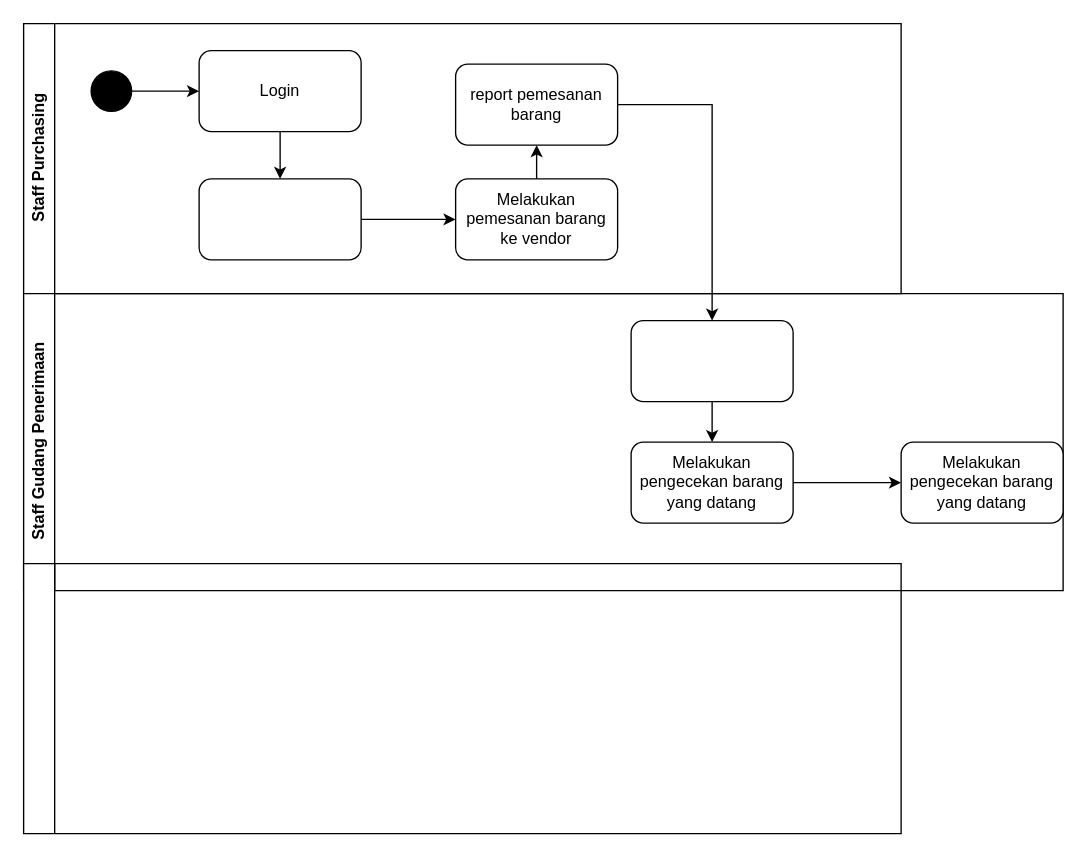
The diagram is 1087 pixels wide and 857 high, and some of its shapes have lost their labels. The shapes that lost their labels are listed below. From the top down, each one's centre as x and y in pixels, then its label:
At pixel 279 219: "Melakukan pemilihan vendor".
At pixel 711 360: "Menerima report pemesanan barang".
At pixel 461 698: "Staff Gudang Distribusi".
